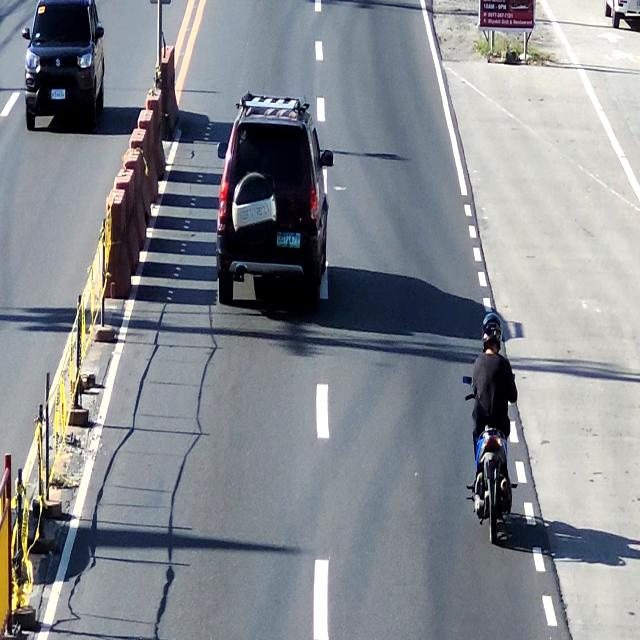Car: (216, 92, 330, 309)
License-Plate: (273, 228, 301, 256)
Motorcycle: (465, 325, 519, 550)
